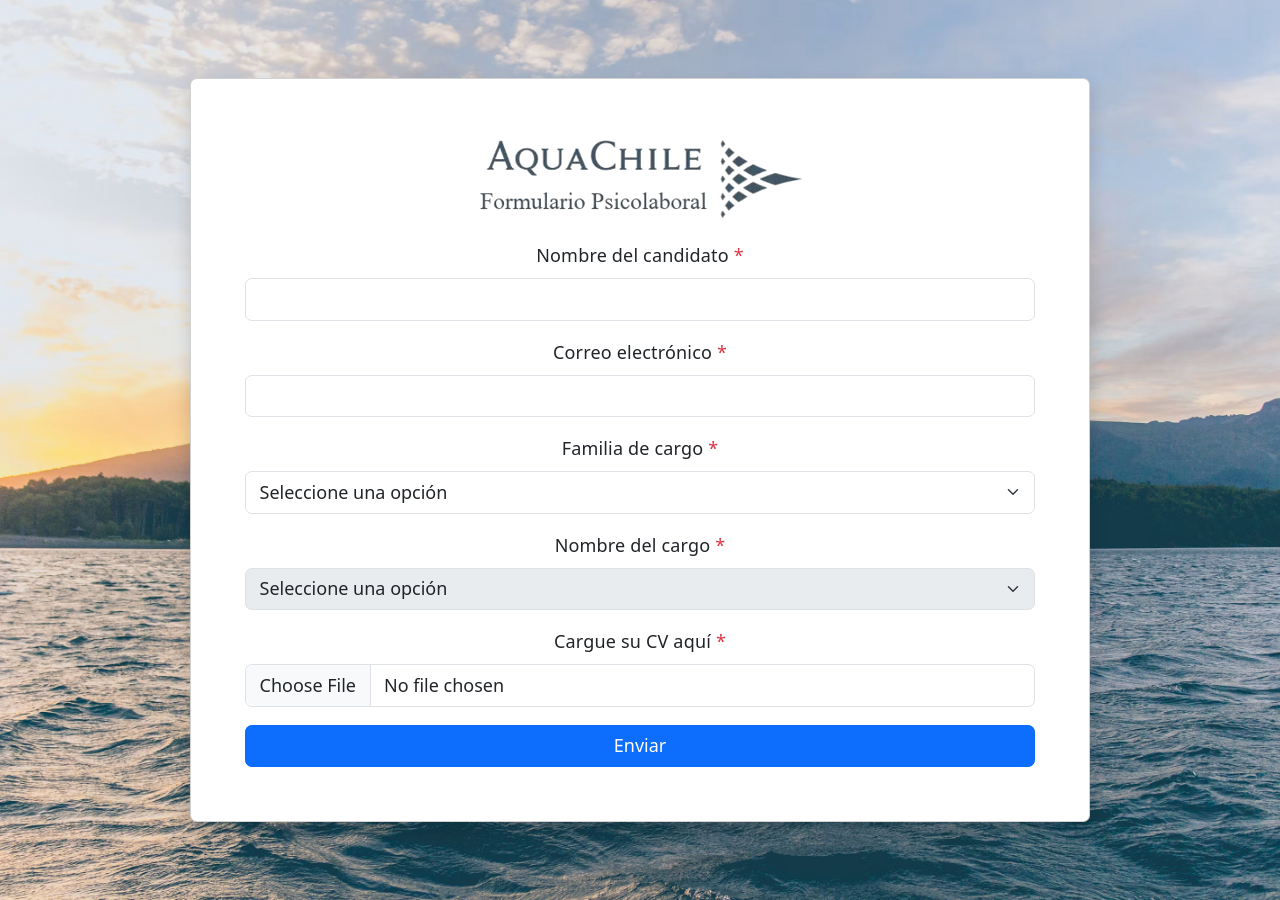
Test case: FormularioSolicitud › muestra errores si se envía vacío
The width and height of the screenshot is (1280, 900).
Click the button "Enviar" at point(640, 746), box [245, 724, 1035, 767]
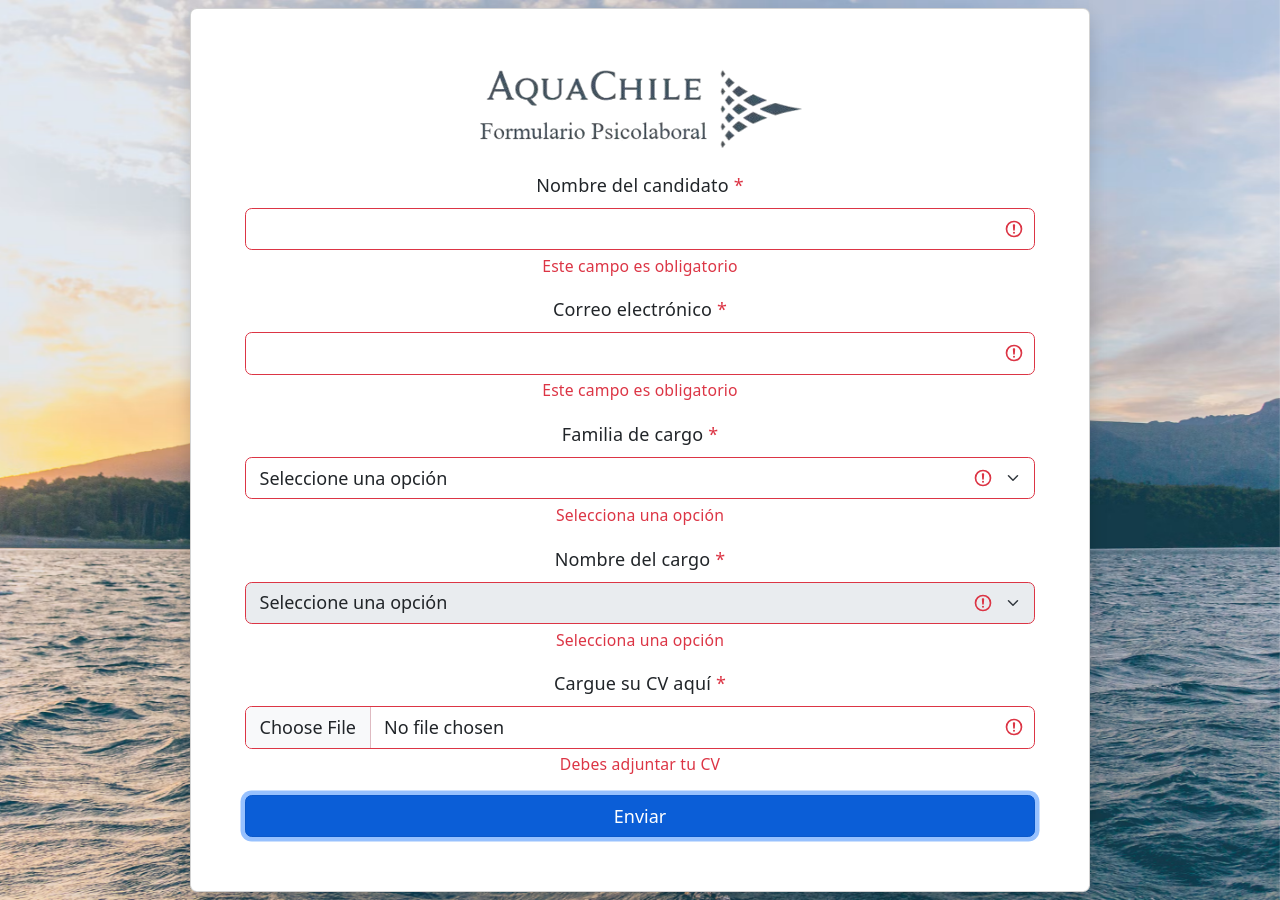
Check: the text "Este campo es obligatorio" is shown 2 times, box [542, 255, 738, 277]; [542, 379, 738, 401]
Check: the text "Debes adjuntar tu CV" is shown, box [560, 753, 720, 775]
